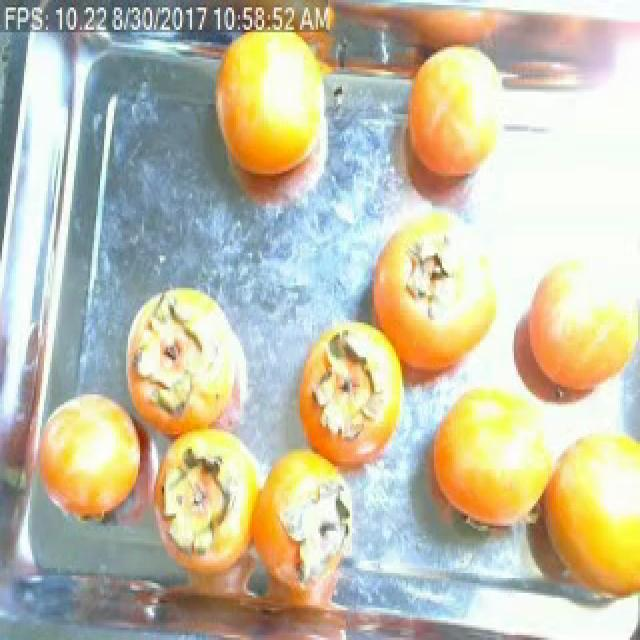Fruit: (196, 12, 352, 208), (286, 300, 414, 486), (34, 374, 148, 536)
